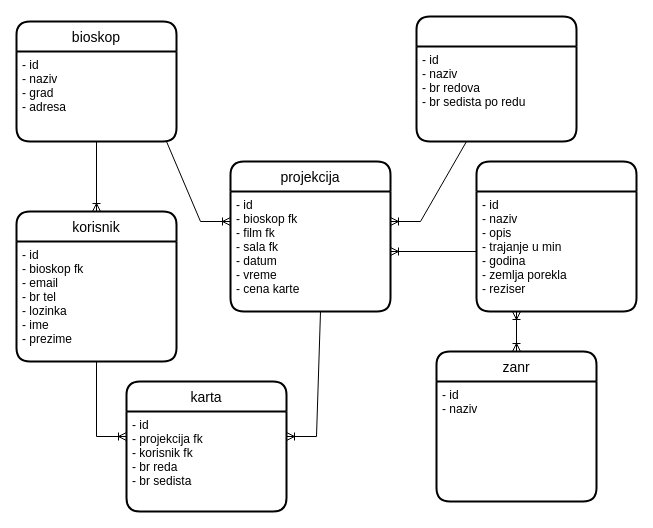
Some shapes in this 653 by 528 pixel diagram are drawn without their labels. Each missing label, with the box of its shape:
film: (475, 160, 637, 312)
sala: (415, 15, 577, 142)
